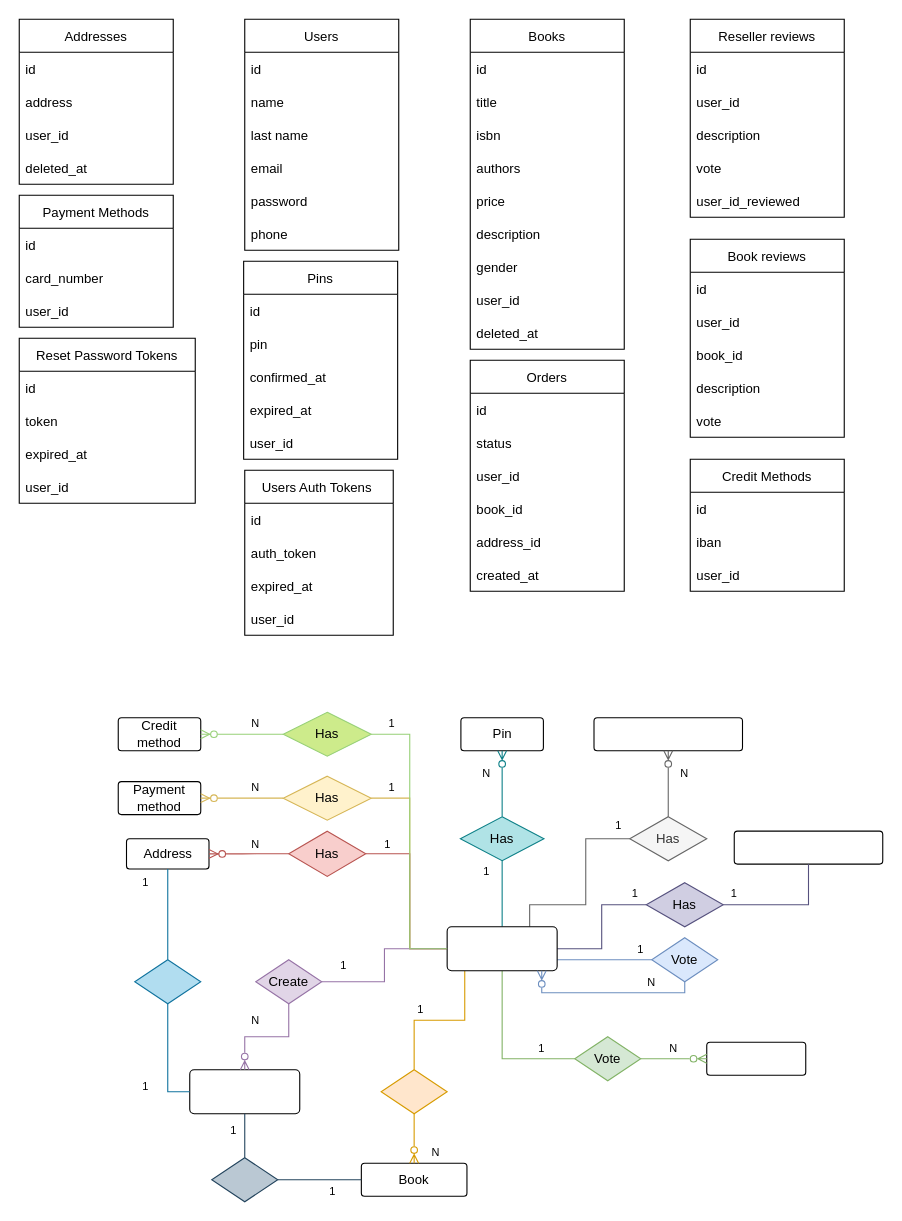
The diagram is 902 pixels wide and 1221 high, and some of its shapes have lost their labels. The shapes that lost their labels are listed below. From the top down, each one's centre as x and y in pixels, then its label:
the point at 668,734: Reset password token
the point at 808,847: User Auth Token
the point at 501,948: User
the point at 167,981: Where
the point at 756,1058: Book rieview
the point at 244,1091: Order
the point at 413,1091: Sell
the point at 244,1179: What
